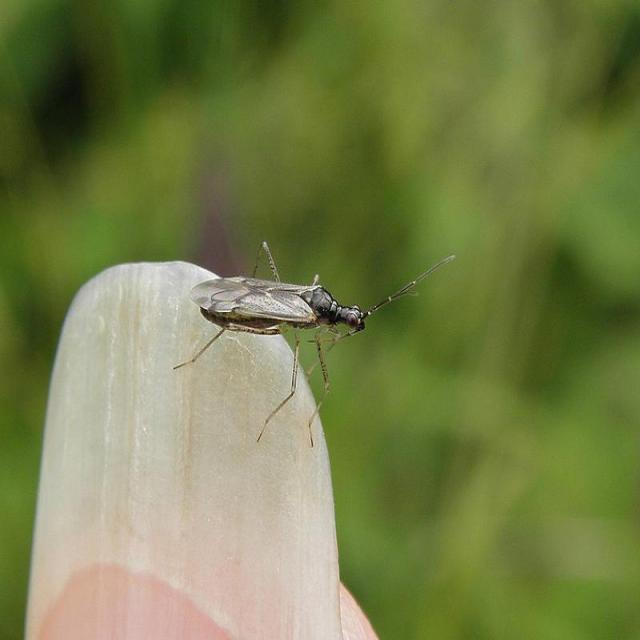Miridae-Adult-: (171, 233, 456, 430)
